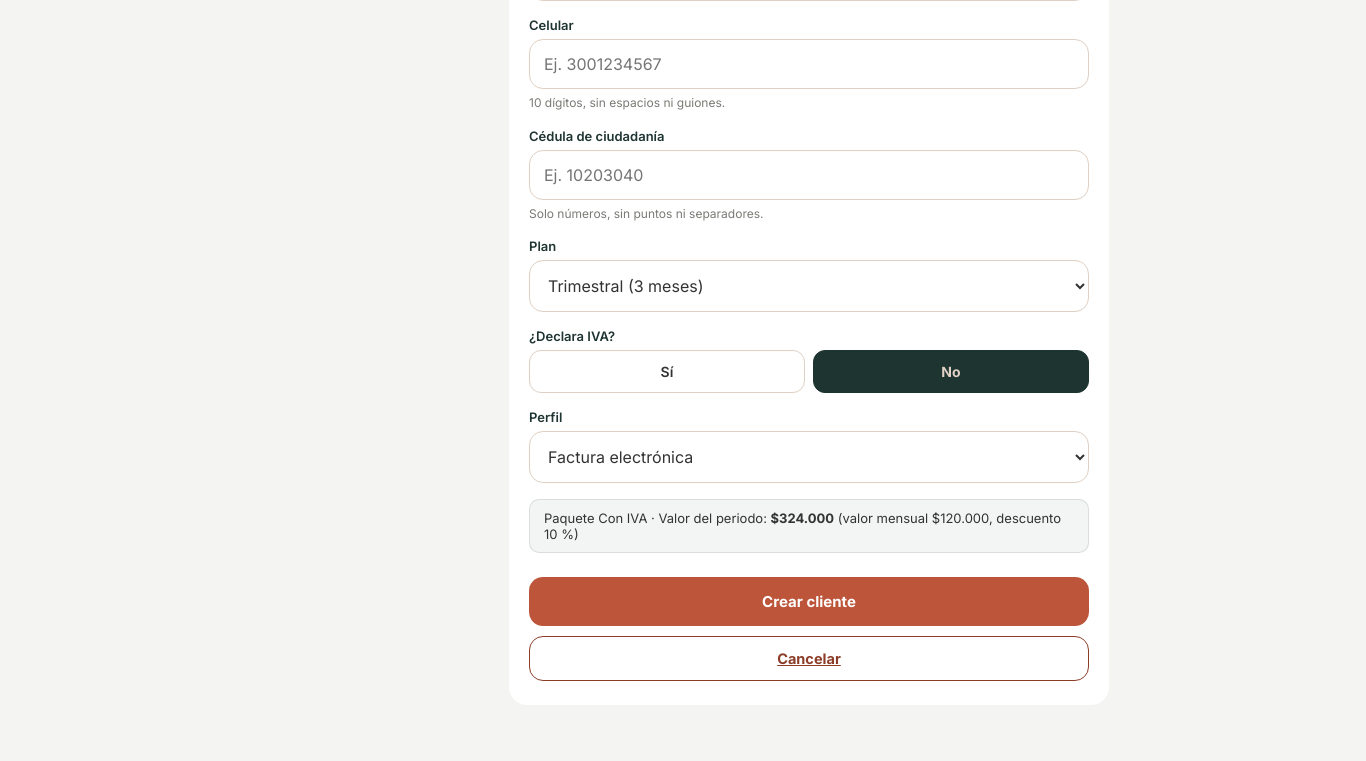
Test: Story 8.6: Panel admin — crear cliente, pagos y configuración › Nuevo cliente (/admin/clientes/nuevo) - AC #1 › validación en cliente para campos obligatorios vacíos
(page scrolled)
Note: Intento de envío sin llenar campos
Click the button "Crear cliente". click: (809, 602)
box: [529,577,1089,626]
(page scrolled)
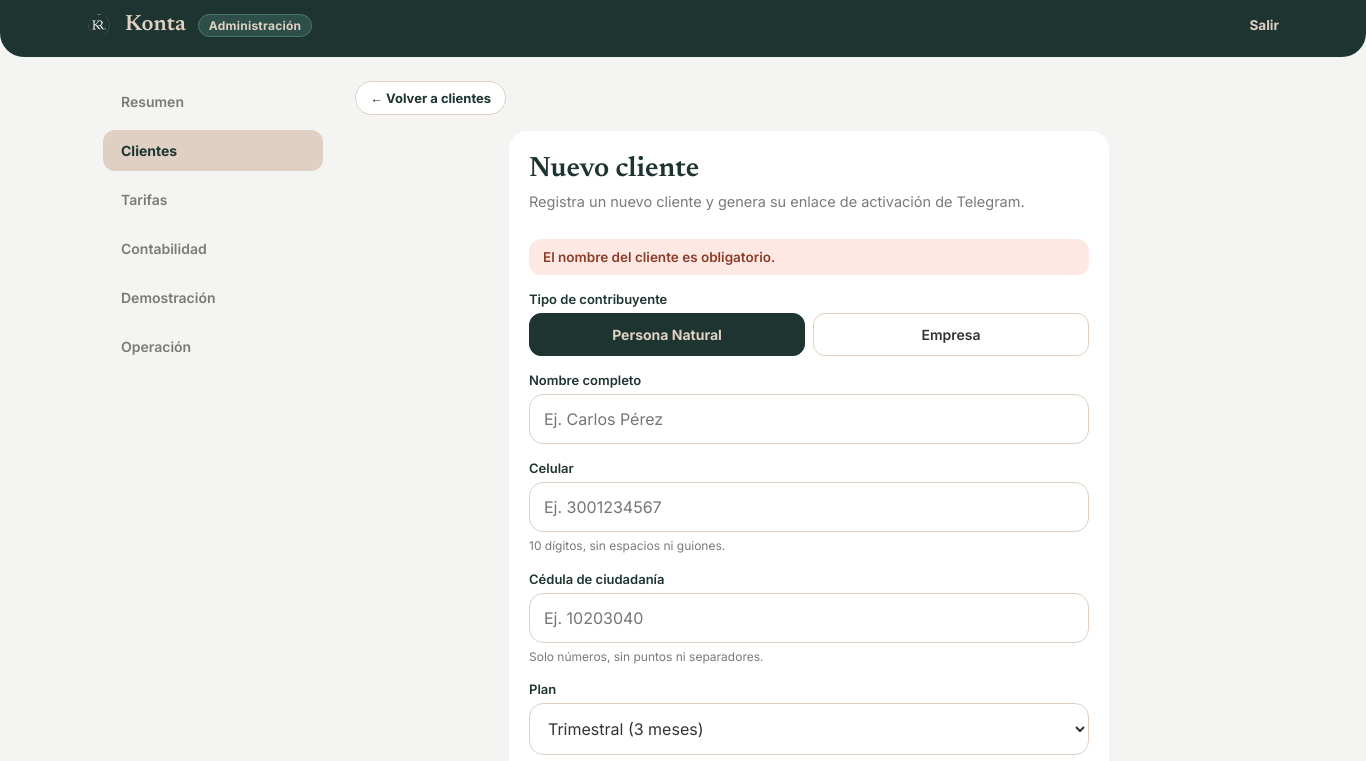
Expected: the message reads "El nombre del cliente es obligatorio.", [543,249,775,265]
